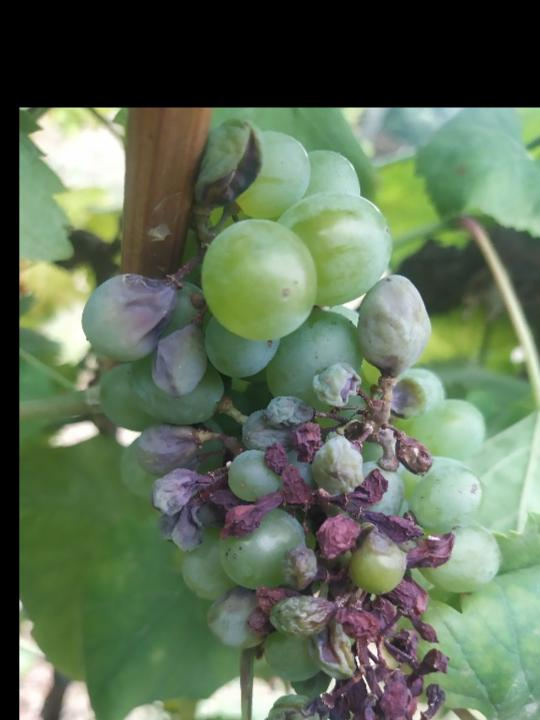grape: (79, 114, 504, 720)
